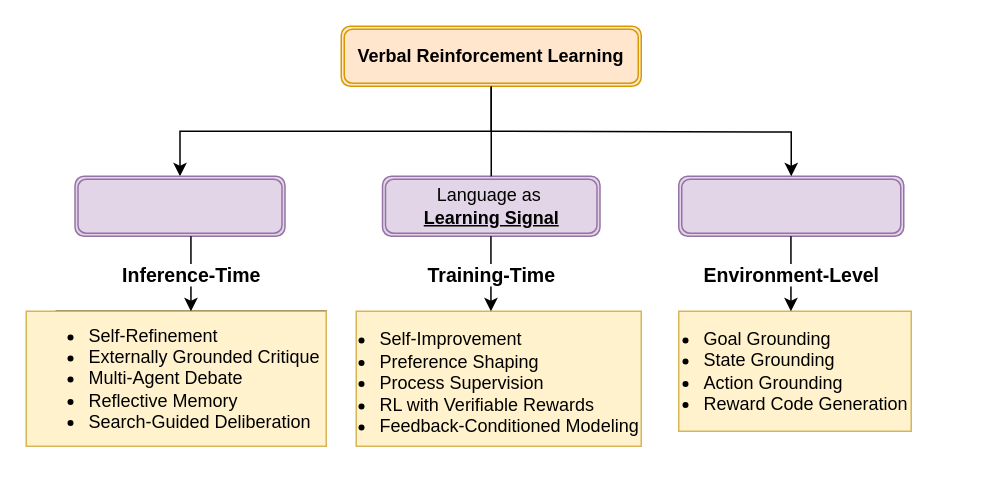
Some shapes in this 998 by 503 pixel diagram are drawn without their labels. The centre of each missing label's shape, as x and y in pixels:
"Language as Deliberative Feedback" goes at pixel 179 205.
"Language as Grounding Signal" goes at pixel 790 205.
